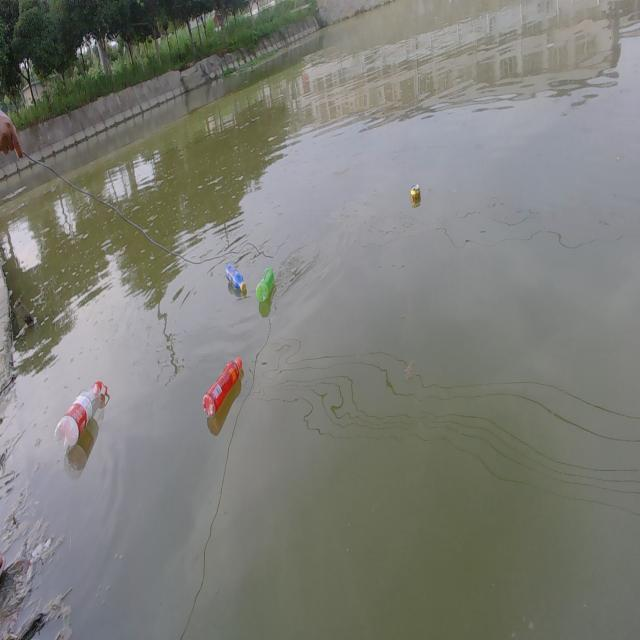bottle: (195, 348, 258, 429), (54, 368, 116, 446), (248, 258, 283, 309), (210, 259, 249, 298)
